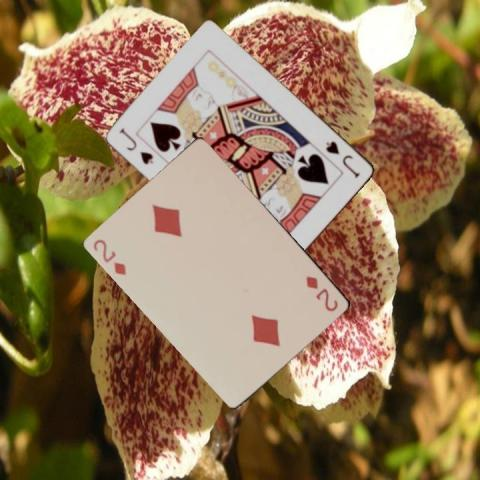2d: (90, 236, 129, 277), (303, 273, 340, 313)
Js: (322, 138, 362, 180), (117, 125, 156, 166)
